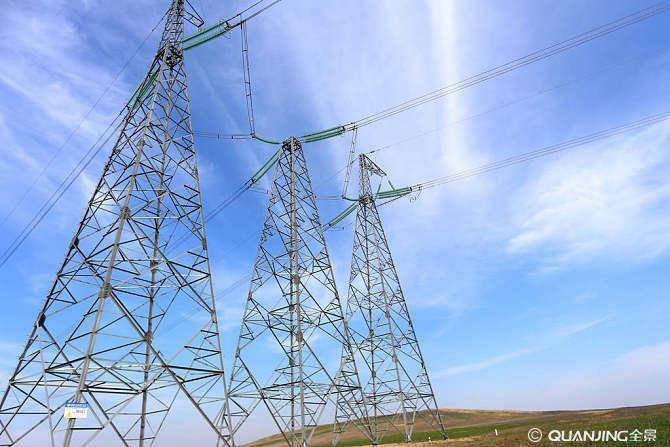power_tower: (19, 2, 231, 446), (222, 122, 376, 444), (337, 145, 448, 437)
